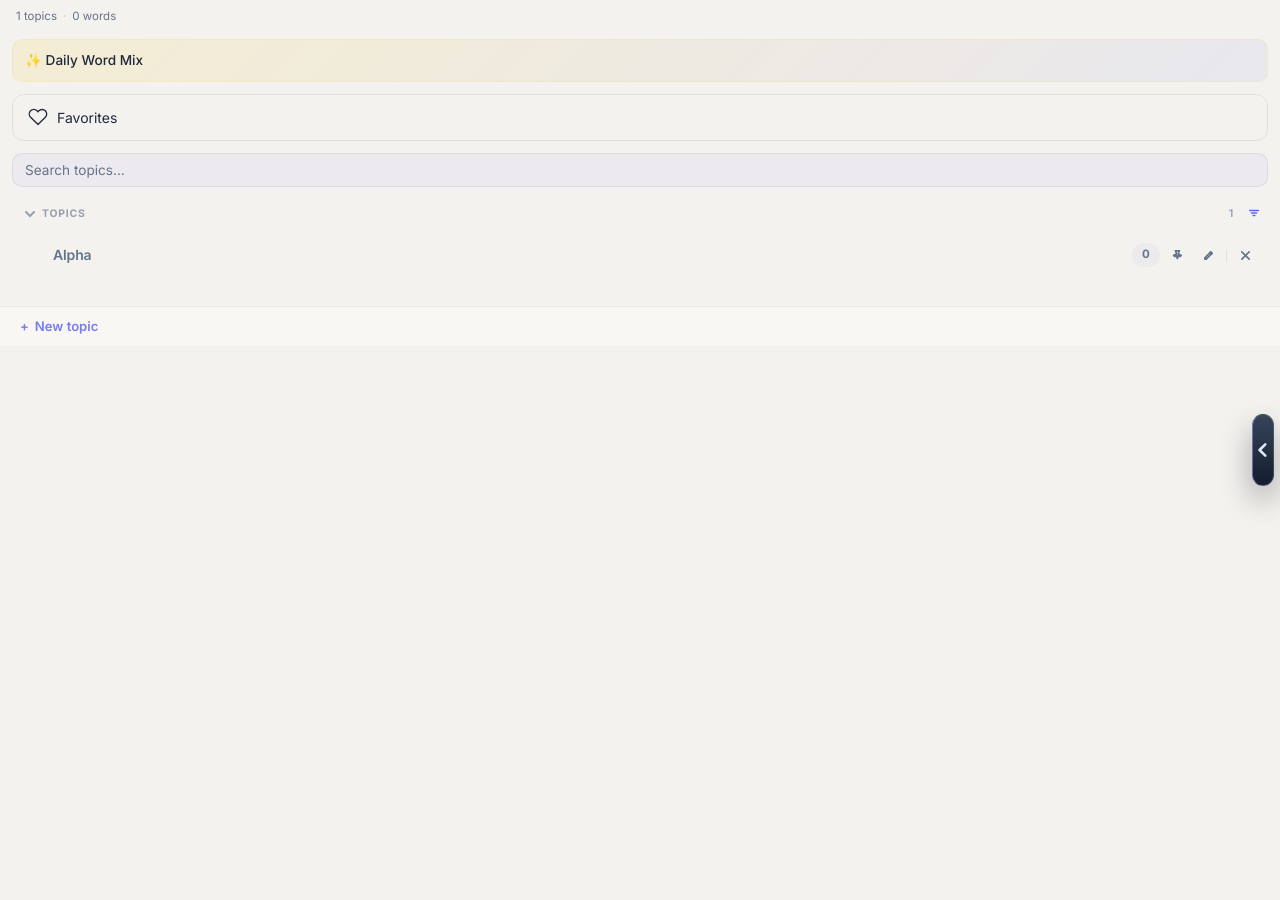
Test: TopicSidebar cache invalidation › describes deletion impact in terms that match backend behavior
Step 1. Click the button titled "Delete topic" → (1245, 256), box [1229, 238, 1261, 274]
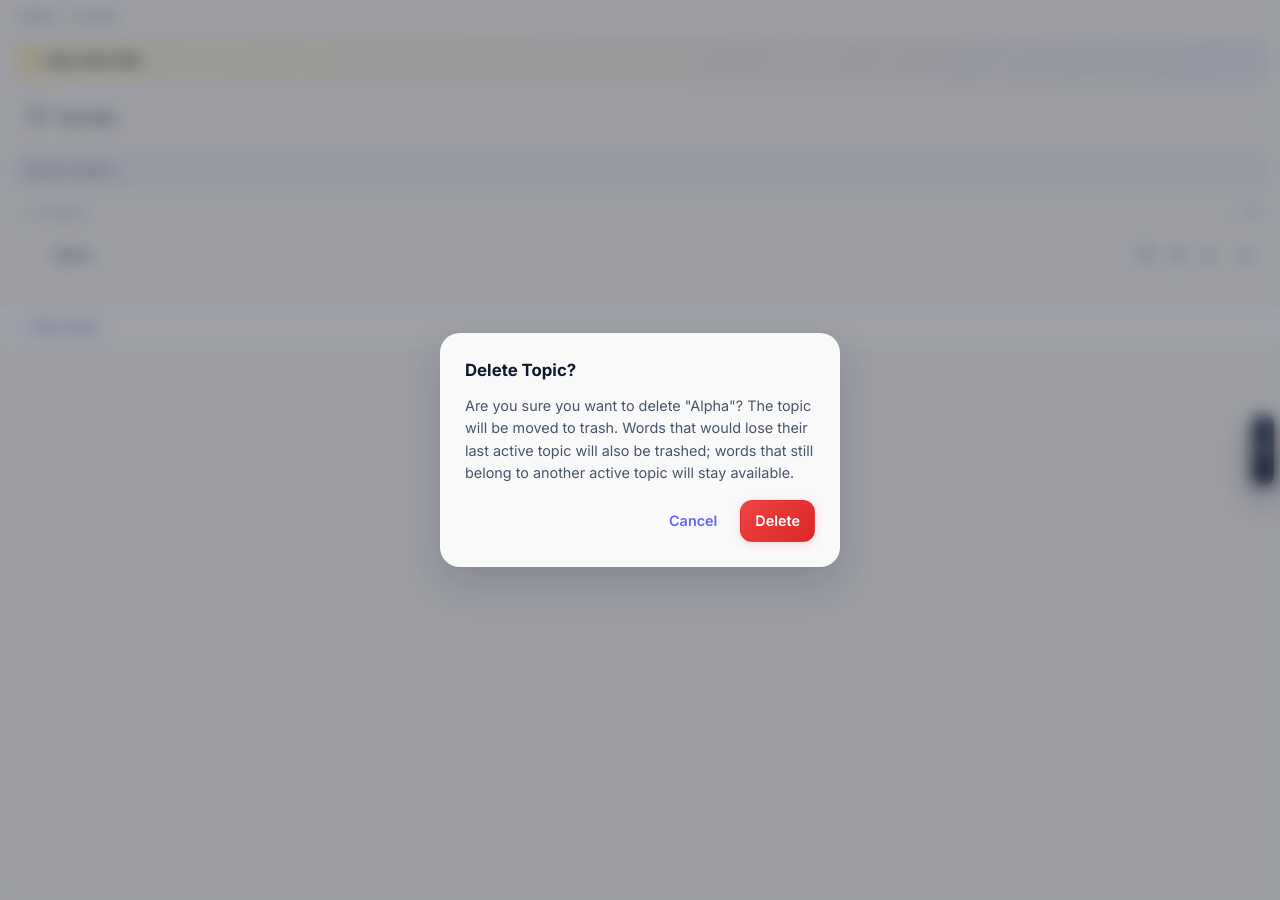
Expected: the text "words that still belong to another active topic will stay available" is shown, [465, 397, 813, 481]
